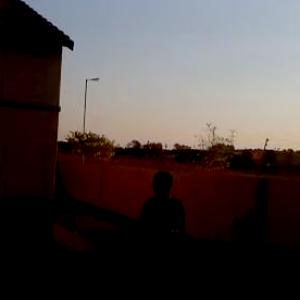follow: (135, 166, 189, 299)
